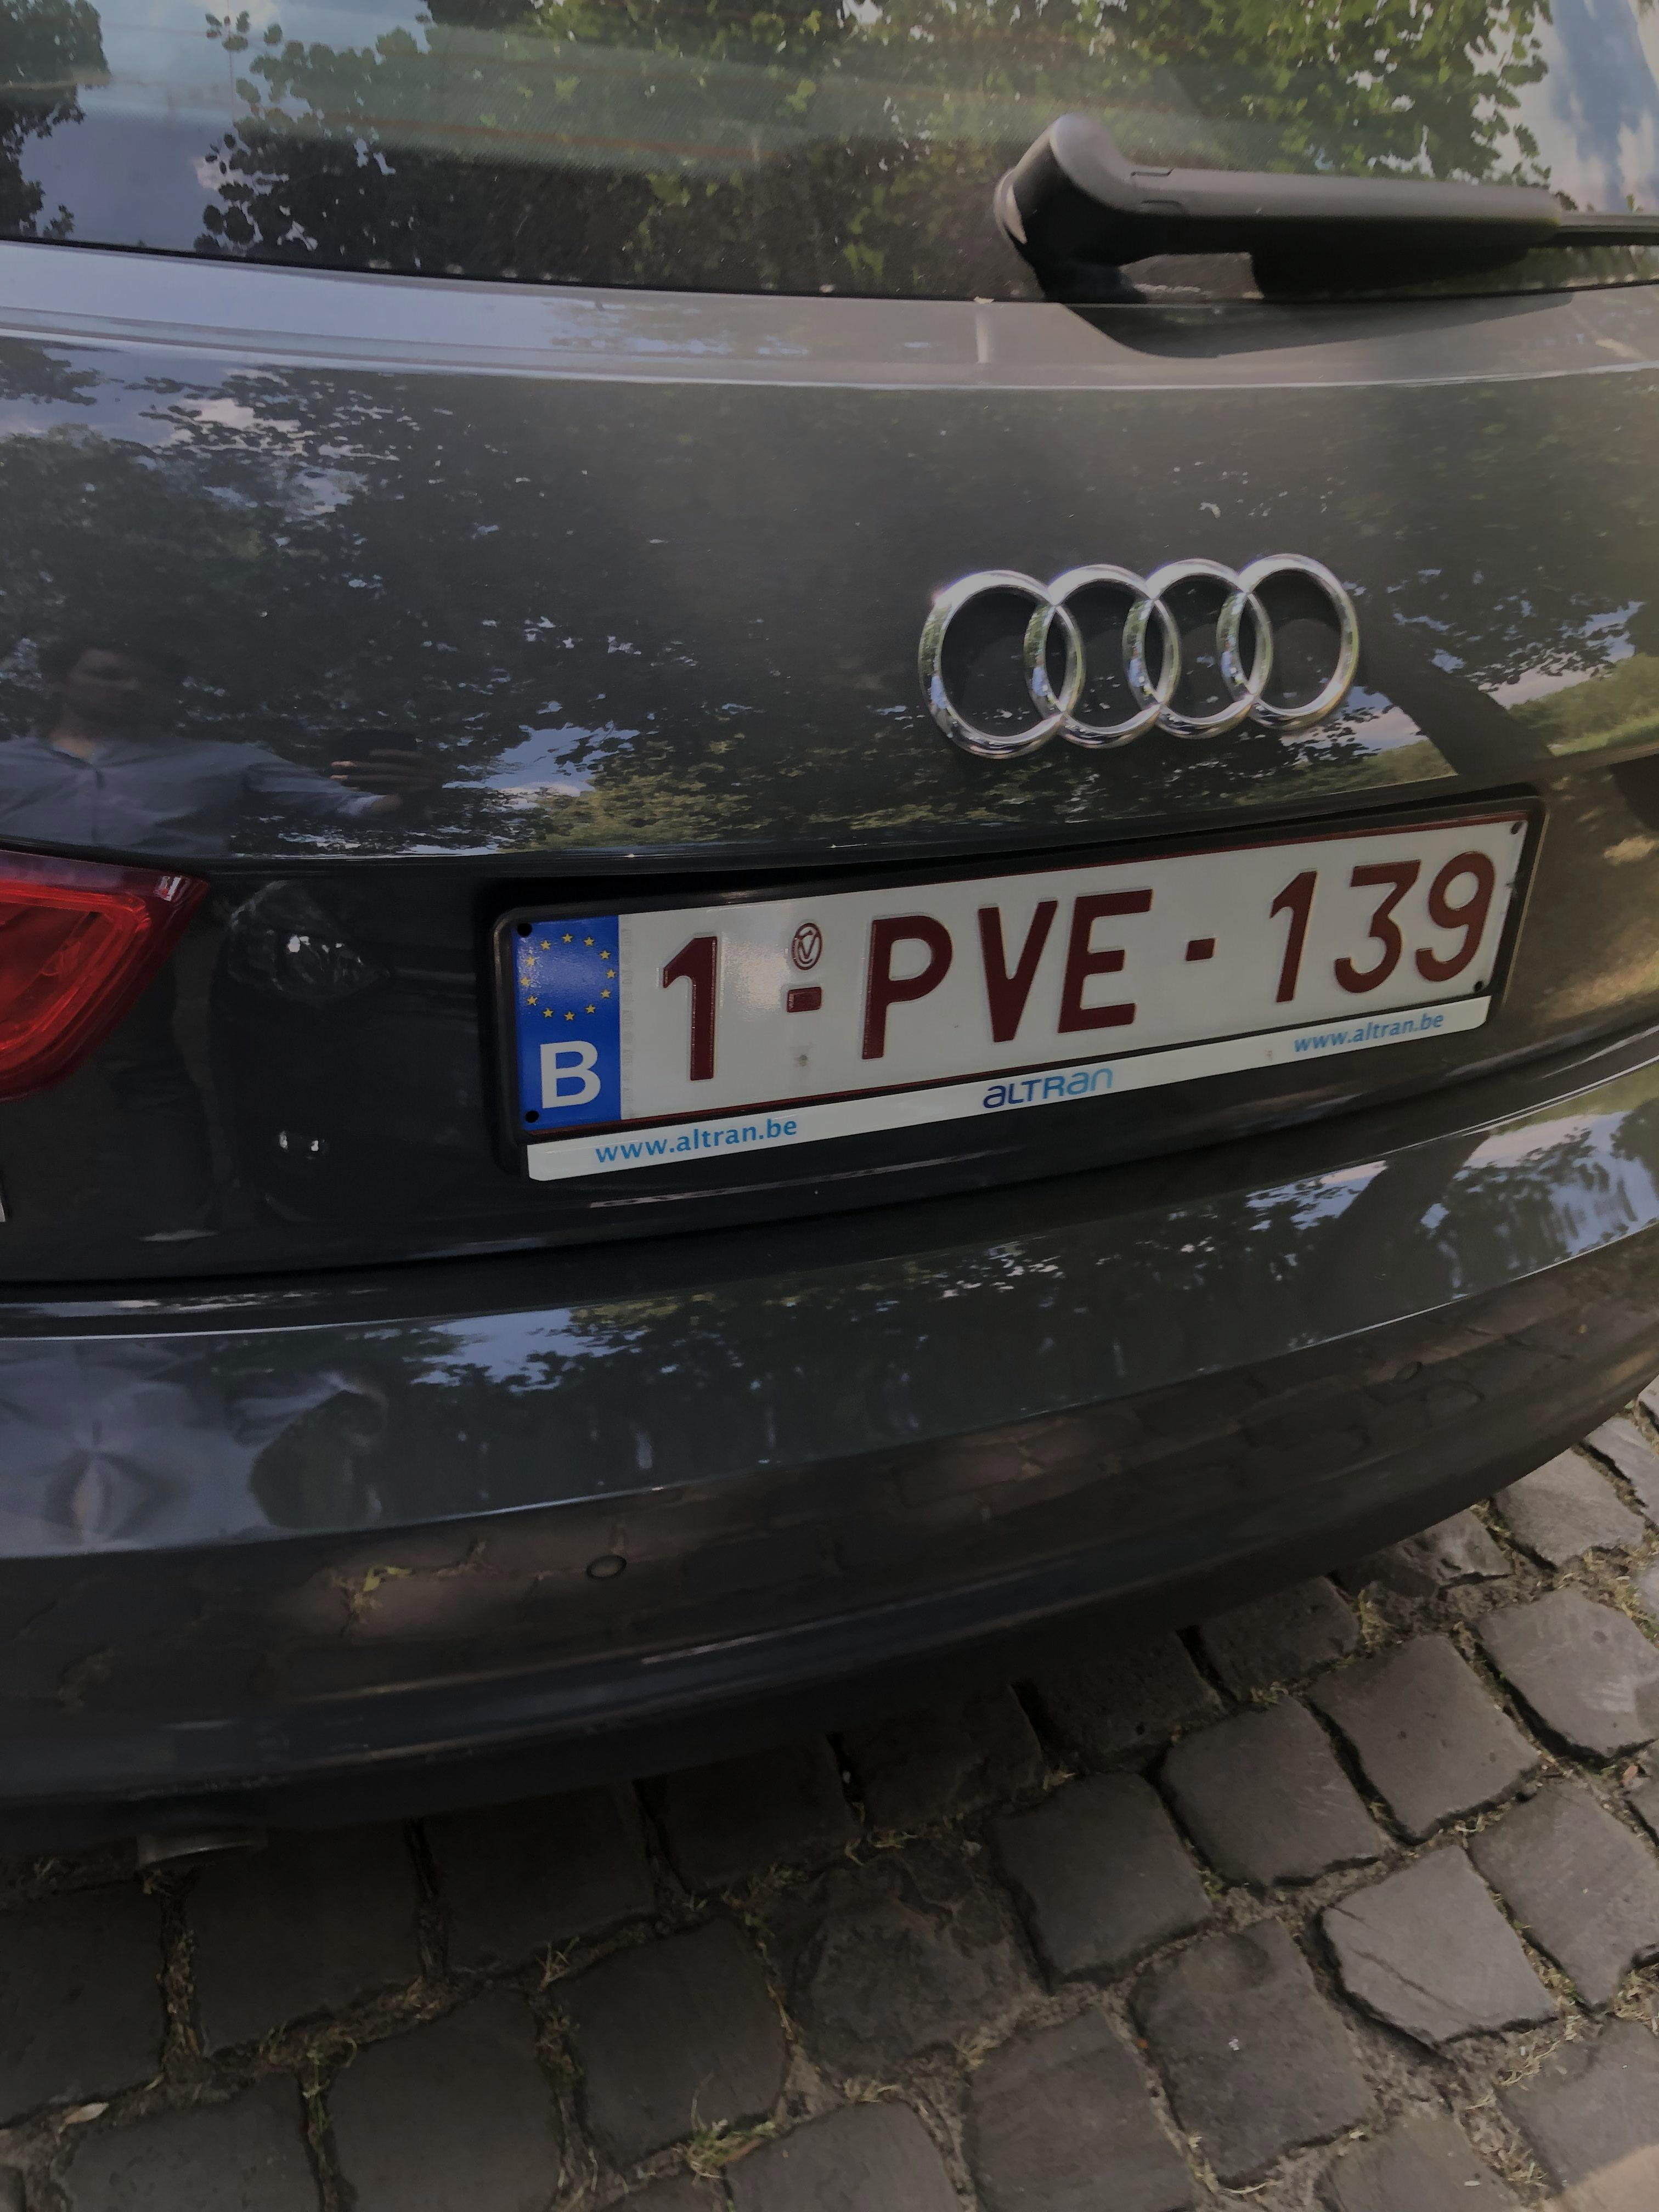plate: (457, 778, 1568, 1203)
